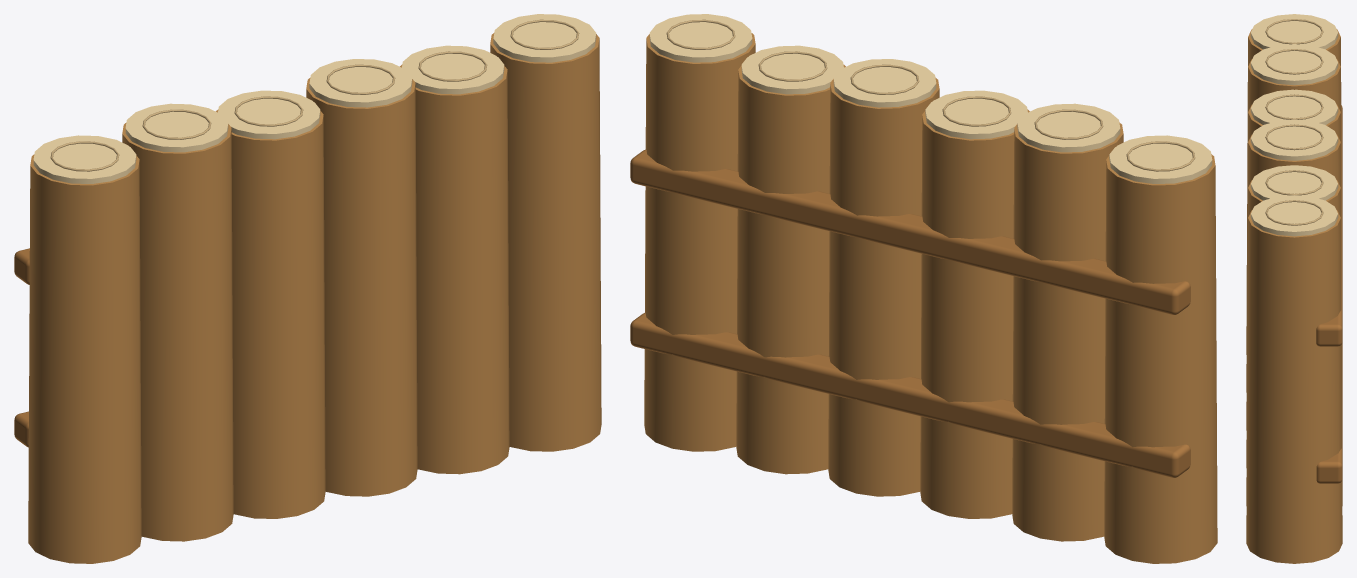
Rendered from reference_fence.glb.
3 renders of one model, left to right at view 1: azimuth 30°, elevation 25°; view 2: azimuth 150°, elevation 25°; view 3: azimuth 270°, elevation 25°, orthographic. The views are drawn at different scales.
Parts seen in each view (by area): view 1: reference_fence; view 2: reference_fence; view 3: reference_fence.
Part boxes in pixels (x1=…): reference_fence: x1=14, y1=14, x2=601, y2=563; reference_fence: x1=630, y1=14, x2=1217, y2=563; reference_fence: x1=1246, y1=14, x2=1342, y2=563.
Size of the model in its own units: 1.58 by 1.06 by 0.2801.
